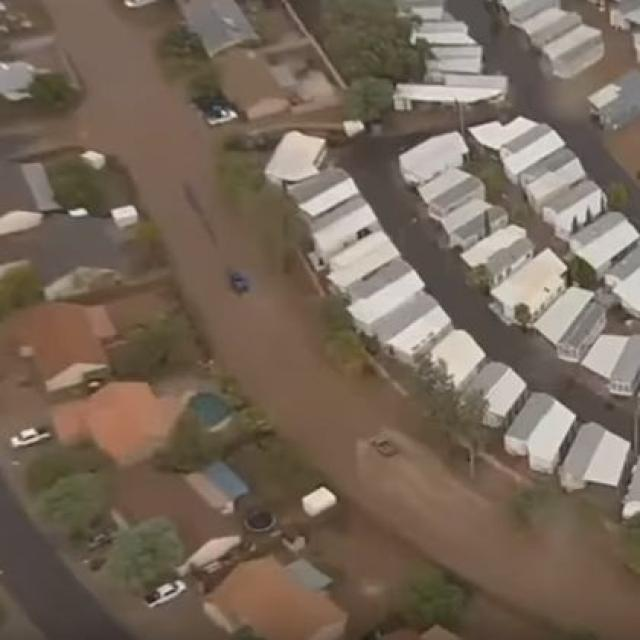flooded_areas: (119, 21, 616, 632)
